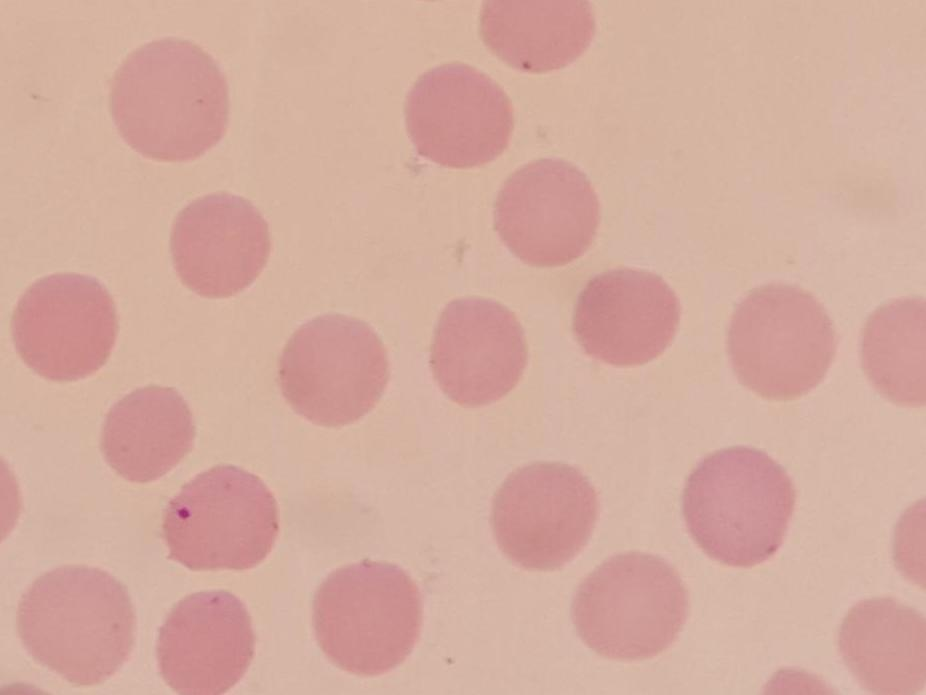Uninfected: (13, 564, 137, 685), (682, 442, 797, 572), (108, 39, 231, 159), (725, 279, 837, 403), (313, 562, 428, 678), (167, 462, 282, 572), (280, 311, 387, 429), (577, 549, 684, 664), (570, 262, 684, 367), (405, 57, 512, 167), (430, 296, 531, 411), (487, 461, 593, 570), (493, 159, 601, 264), (13, 269, 118, 377), (173, 192, 271, 302), (157, 591, 257, 695), (103, 382, 194, 484), (483, 0, 597, 78), (858, 291, 926, 417), (837, 599, 926, 695)
